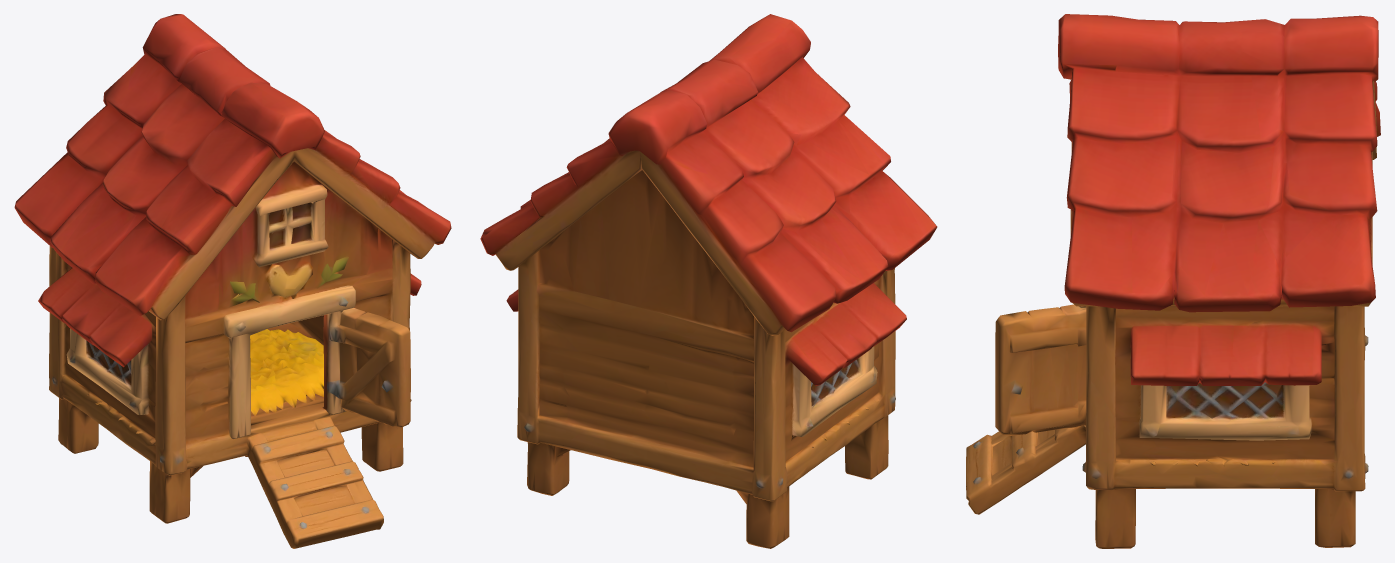
Rendered from coop.glb.
The picture shows the model from 3 angles, left to right: view 1: azimuth 30°, elevation 25°; view 2: azimuth 150°, elevation 25°; view 3: azimuth 270°, elevation 25°; orthographic projection. The views are drawn at different scales.
Parts seen in each view (by area): view 1: tripo_node_d5fab761-5e32-4c13-af52-b2cf133c1ba6; view 2: tripo_node_d5fab761-5e32-4c13-af52-b2cf133c1ba6; view 3: tripo_node_d5fab761-5e32-4c13-af52-b2cf133c1ba6.
Boxes of the visible parts, left/top/right/bottom form: tripo_node_d5fab761-5e32-4c13-af52-b2cf133c1ba6: left=14, top=14, right=451, bottom=548; tripo_node_d5fab761-5e32-4c13-af52-b2cf133c1ba6: left=480, top=14, right=937, bottom=548; tripo_node_d5fab761-5e32-4c13-af52-b2cf133c1ba6: left=966, top=14, right=1380, bottom=548.
Bounding box in the file's own units: 0.8149 × 0.9815 × 0.7814.
1 material, 1 textured.
